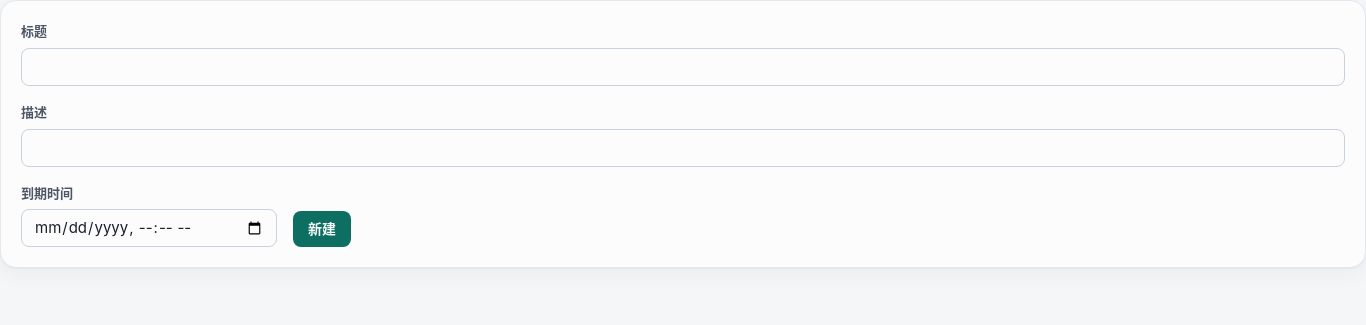
Scenario: rejects invalid input from the API with a stable message
The image size is (1366, 325).
Type "x" into the field labelled "标题".
click(683, 67); type("x")  # box [21,48,1345,86]
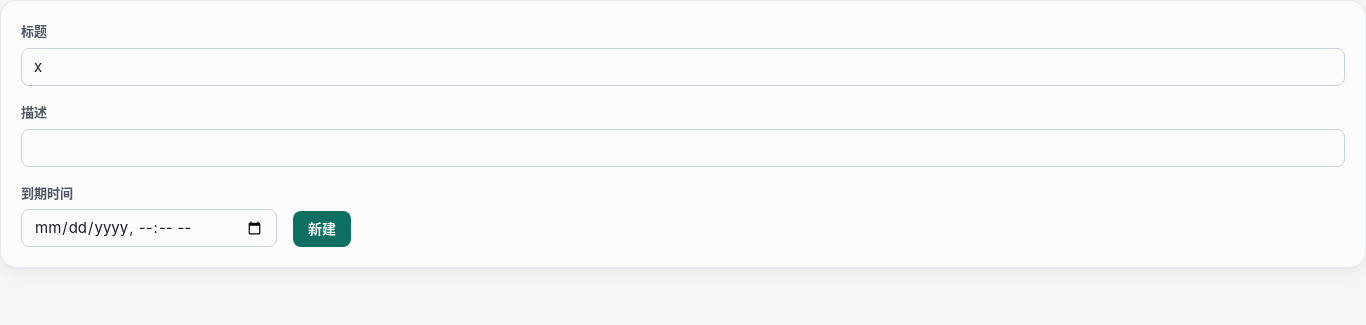
Click the button "新建".
click(322, 229)  # box [293,211,351,247]
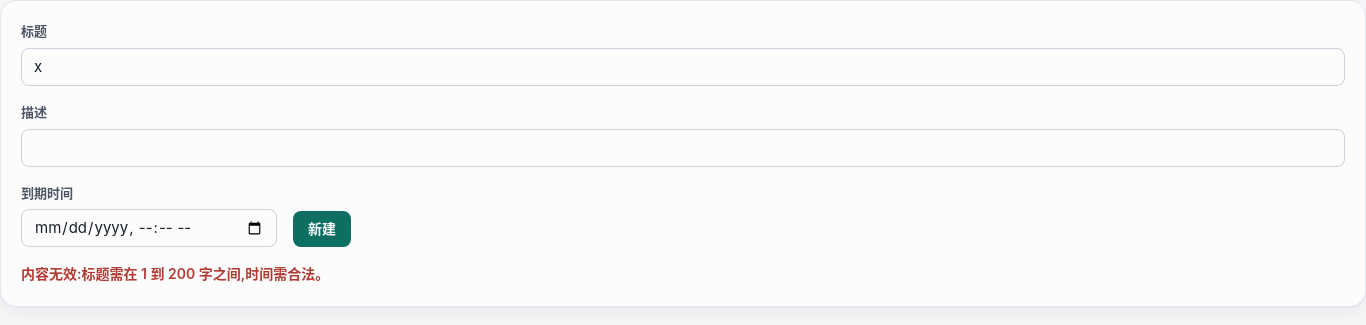
Check: the message does not show "raw details", box [21,265,329,282]
Check: the message shows "内容无效", box [21,265,329,282]
